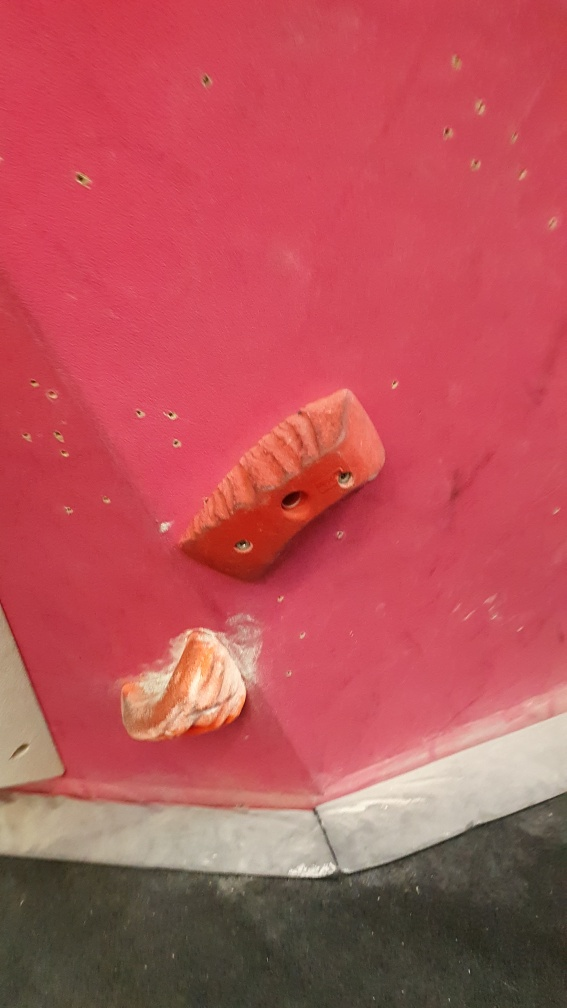Crimp: (176, 384, 390, 588)
Jug: (118, 625, 251, 747)
